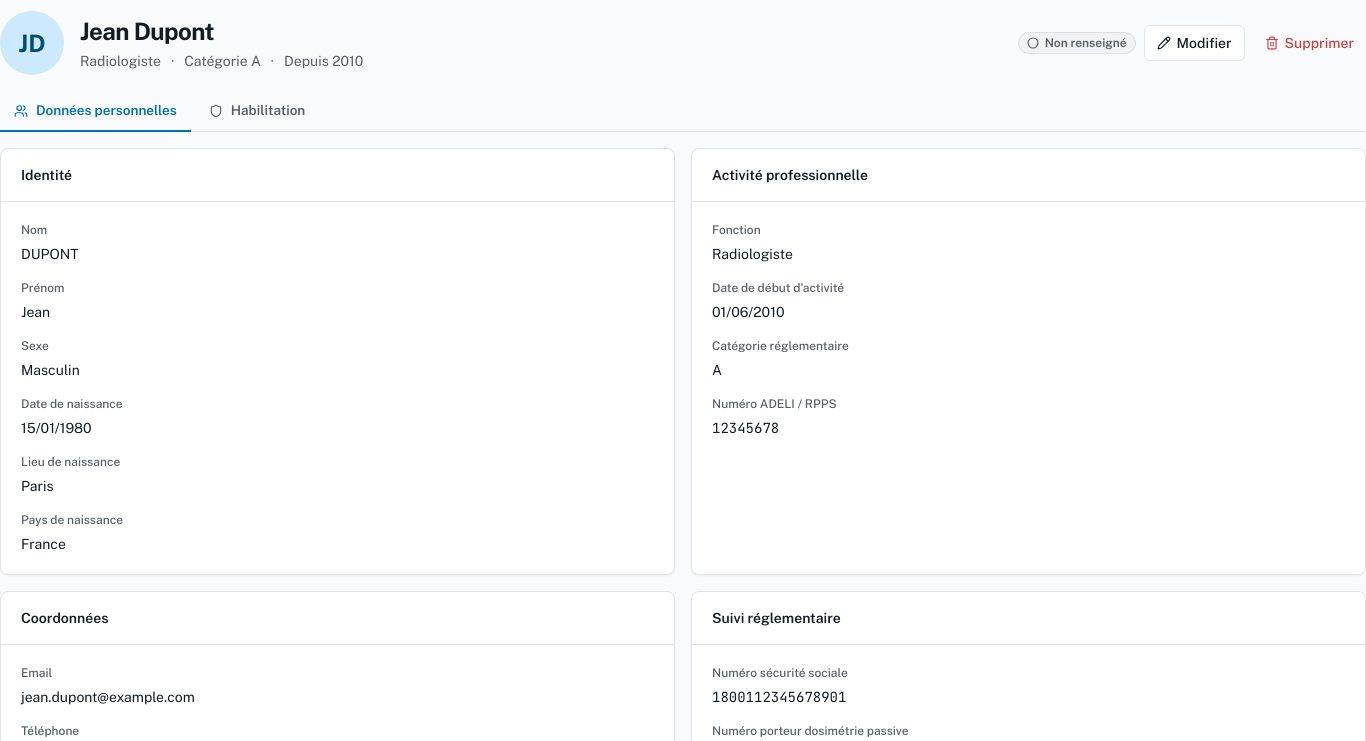
Test: TravailleurFiche › should display formation à l'utilisation des appareils section
The image size is (1366, 741).
Click the button "Habilitation": click(257, 112) [195,91,319,132]
(page scrolled)
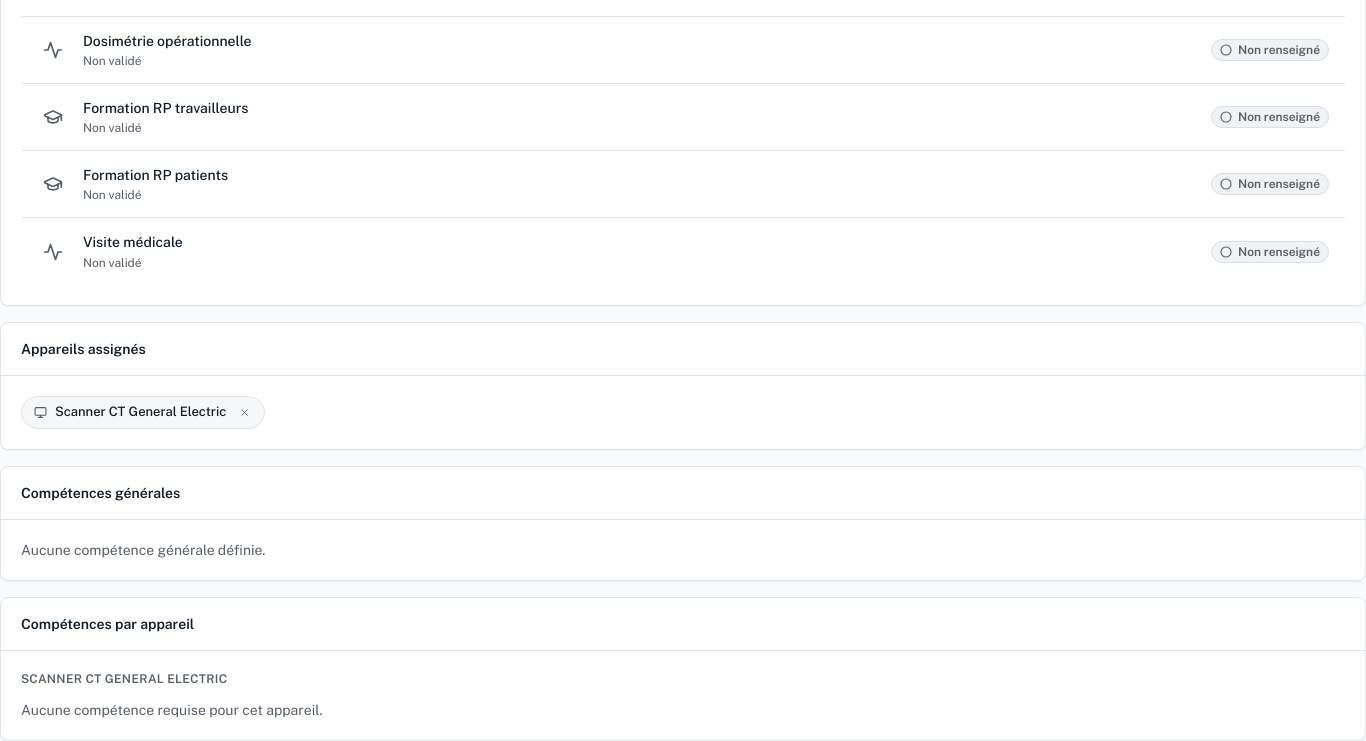
expect the text "Compétences par appareil" is shown: met, box [21,614,194,634]
